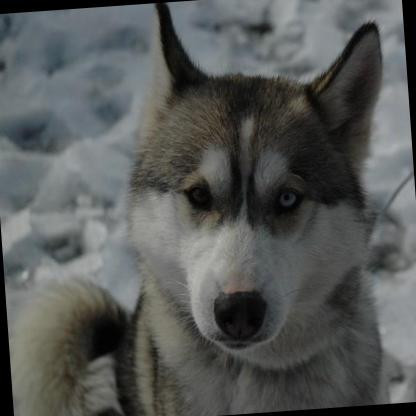Siberian_husky: (0, 0, 406, 416)
